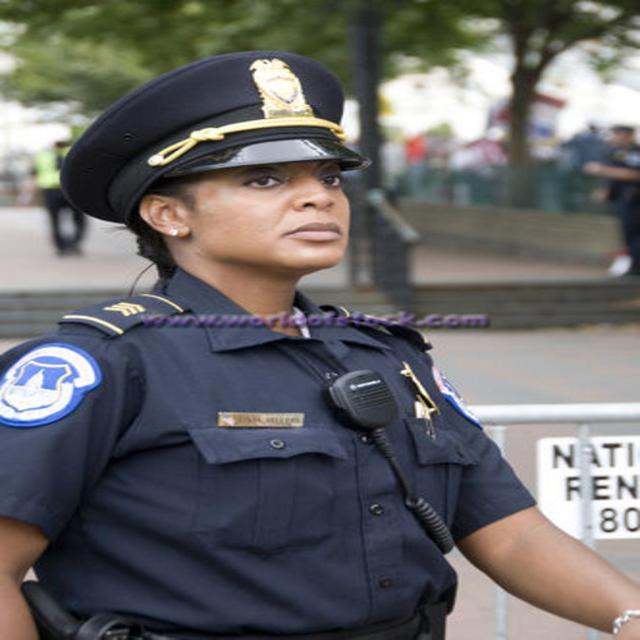Face: (150, 141, 371, 278)
